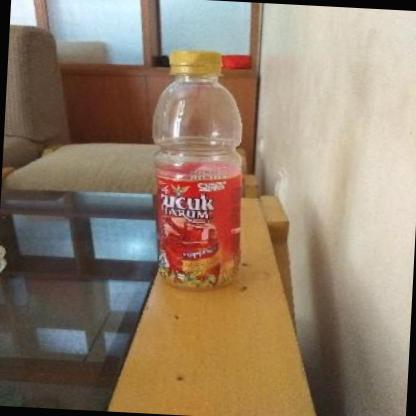plastic_bottles: (142, 44, 257, 294)
